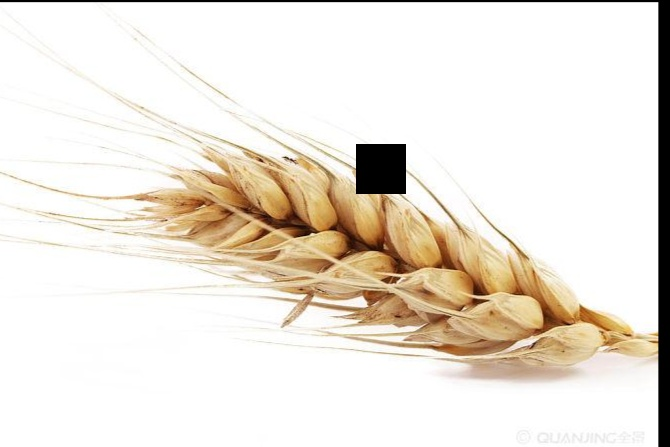wheat: (85, 99, 640, 355)
